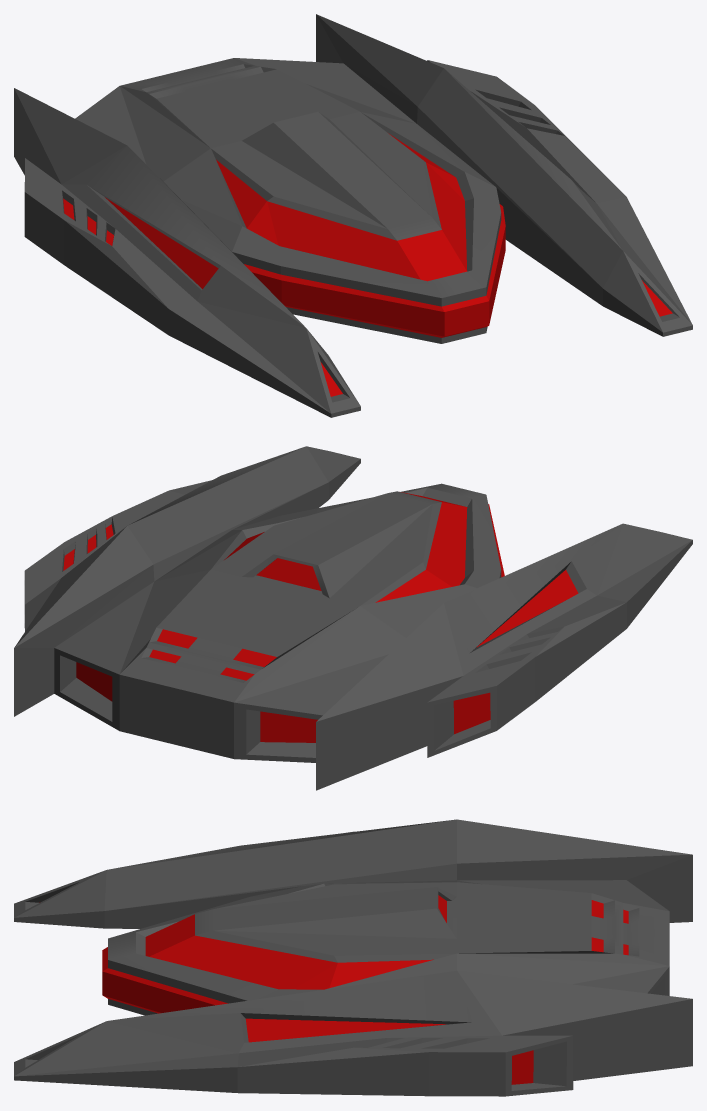
Rendered from PlayerShip_Red.fbx.
3 views of the same model, one above another, from view 1: azimuth 30°, elevation 25°; view 2: azimuth 150°, elevation 25°; view 3: azimuth 270°, elevation 25° (orthographic). The views are drawn at different scales.
Visible parts, largest first — view 1: playerShip_Red; view 2: playerShip_Red; view 3: playerShip_Red.
Part boxes in pixels (x1,y1,x2,y2): playerShip_Red: [14, 14, 692, 417]; playerShip_Red: [14, 446, 692, 790]; playerShip_Red: [14, 819, 692, 1096].
Bounding box in the file's own units: 4.23 × 0.867 × 5.39.
